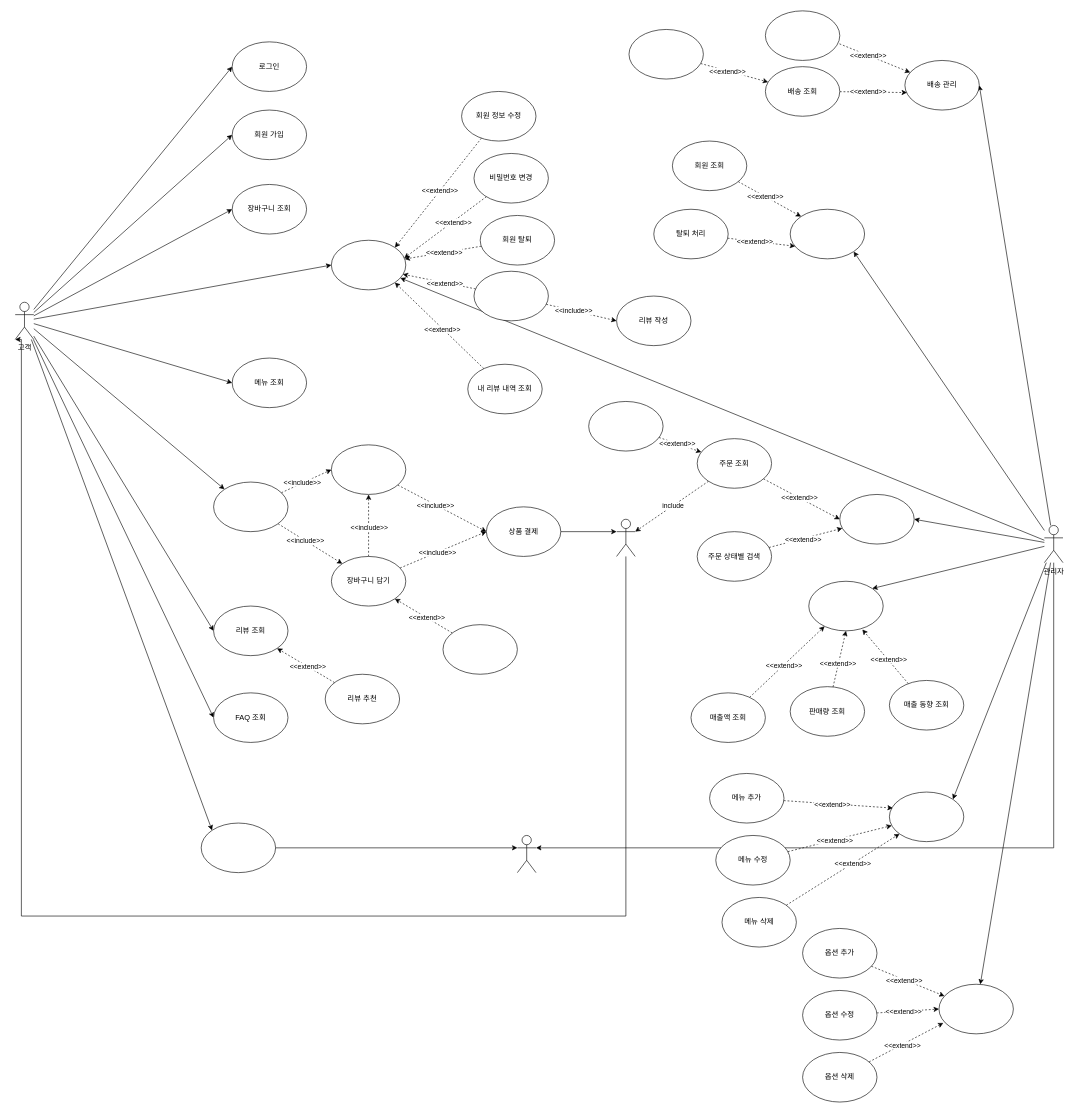
The diagram is 1074 pixels wide and 1113 high, and some of its shapes have lost their labels. Here are the shapes that lost their labels. From the top down, the centre of each, then its label:
pixel 665 54: 배송 상태 변경
pixel 802 35: 배송 캘린더
pixel 827 234: 회원 관리
pixel 368 265: 마이페이지
pixel 510 296: 주문 내역 조회
pixel 625 426: 주문 취소
pixel 368 469: 상품 주문
pixel 250 506: 상품 조회
pixel 876 519: 주문 관리
pixel 625 537: 아임포트 API
pixel 845 606: 대시보드
pixel 479 649: 장바구니 삭제
pixel 926 816: 메뉴 관리
pixel 238 847: 1:1 채팅 문의
pixel 526 854: 채널톡 API
pixel 975 1009: 옵션 관리
